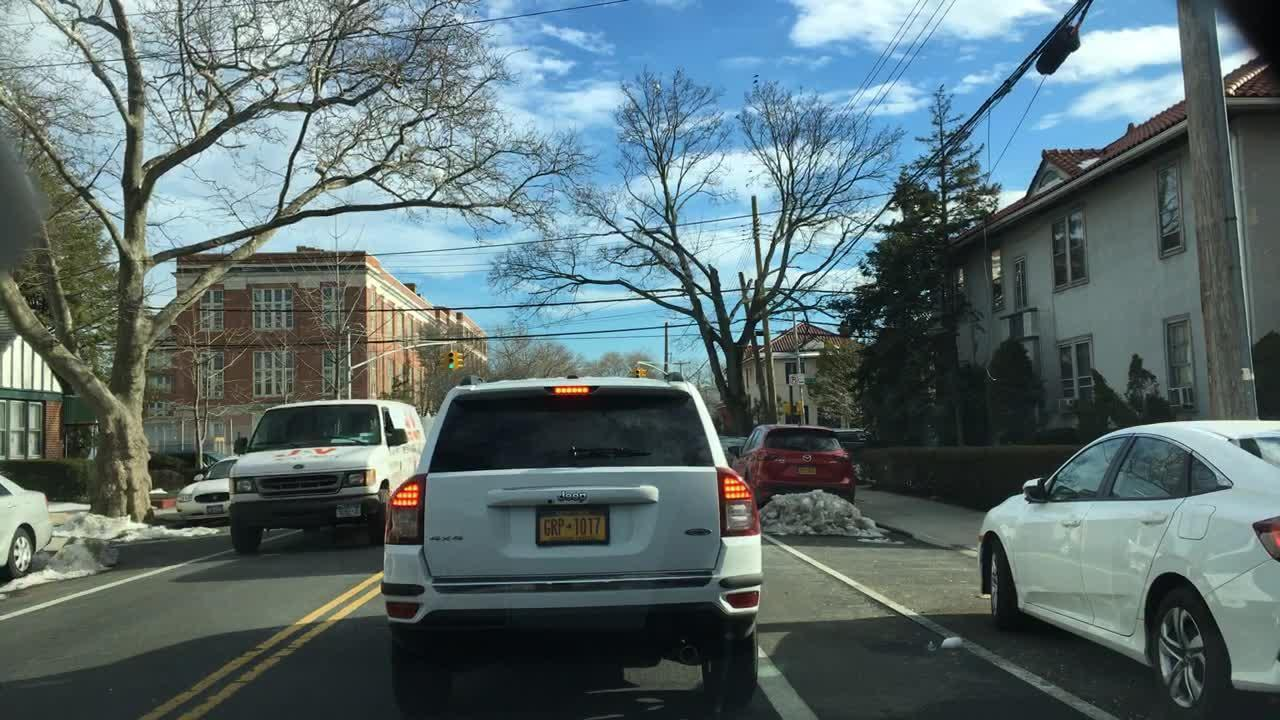Mazda: (800, 450, 816, 465)
ford: (290, 461, 311, 470)
jeep: (546, 480, 612, 505)
